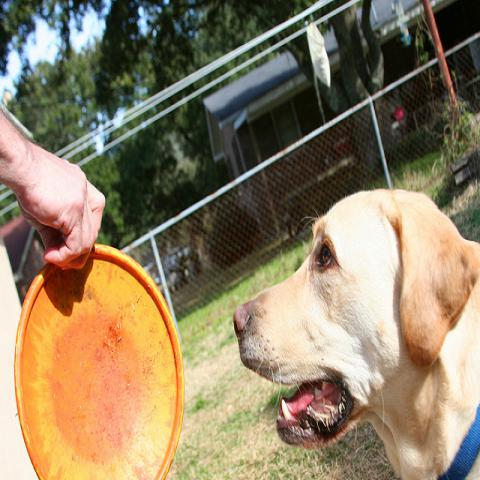car: (164, 247, 198, 291)
